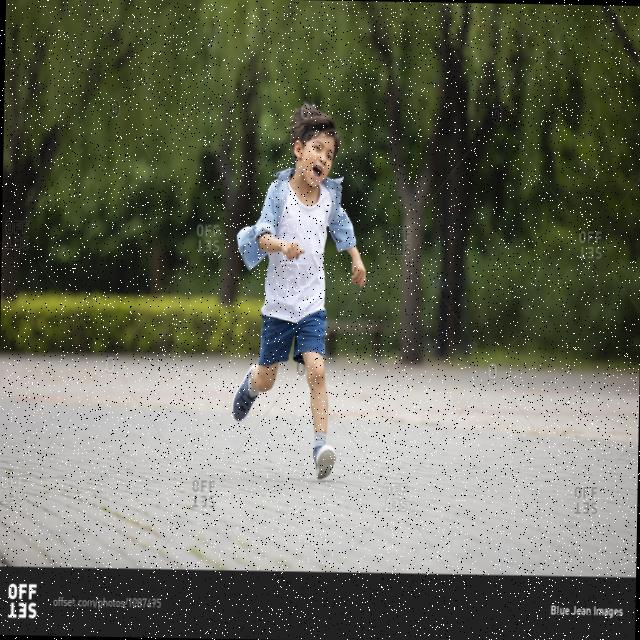Person: (232, 100, 370, 480)
